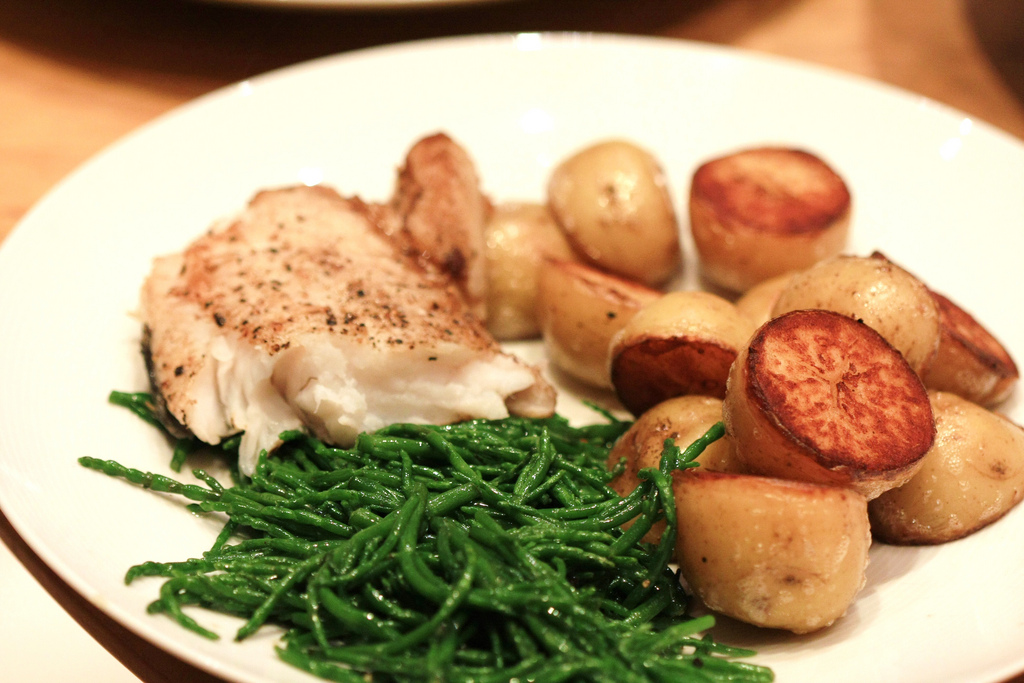boiled potatoes: (654, 470, 903, 646), (736, 311, 940, 524), (764, 261, 955, 392), (877, 388, 1024, 547), (596, 286, 778, 412)
